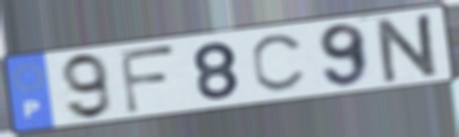8: (191, 41, 243, 103)
9: (315, 21, 371, 90), (59, 52, 114, 122)
C: (248, 31, 309, 95)
F: (116, 43, 180, 117)
N: (375, 10, 444, 86)
